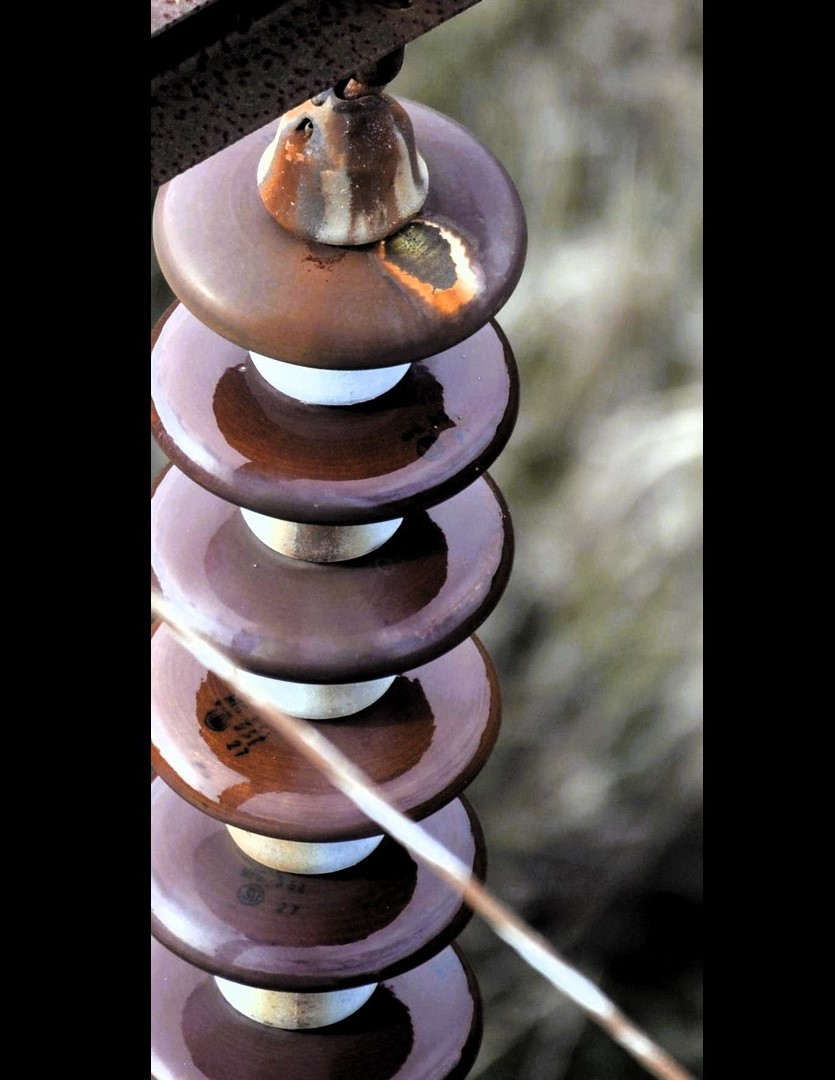Insulator flashover: (147, 78, 540, 371)
